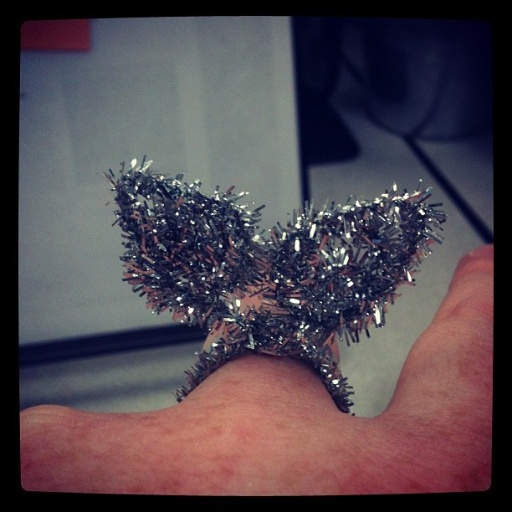hand: (19, 242, 493, 496)
